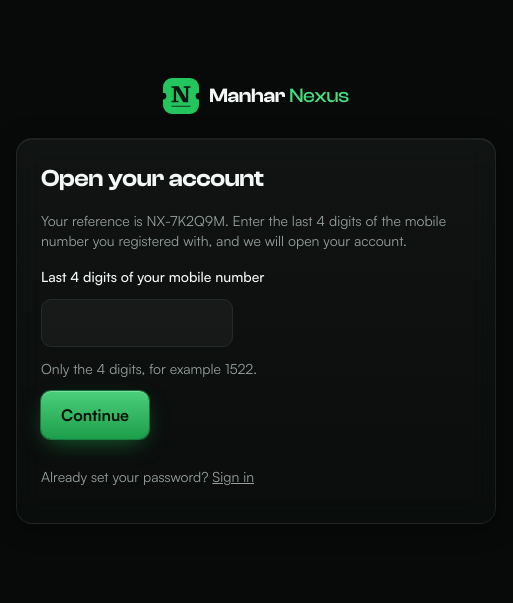
Test: /pay/return › "manual" says a person is finishing it and offers WhatsApp
This screenshot has width=513, height=603.
Step 1. Type "1522" into the field labelled "Last 4 digits of your mobile number" → x=137, y=323, box x1=41 y1=299 x2=233 y2=347
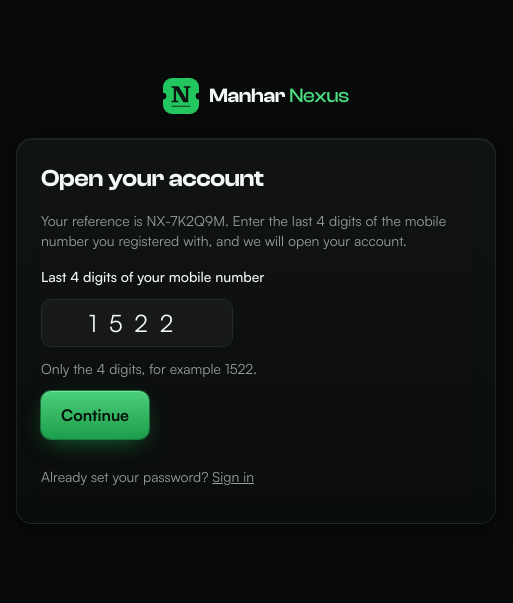
Step 2. Click the button "Continue" → x=95, y=415, box x1=41 y1=391 x2=149 y2=439
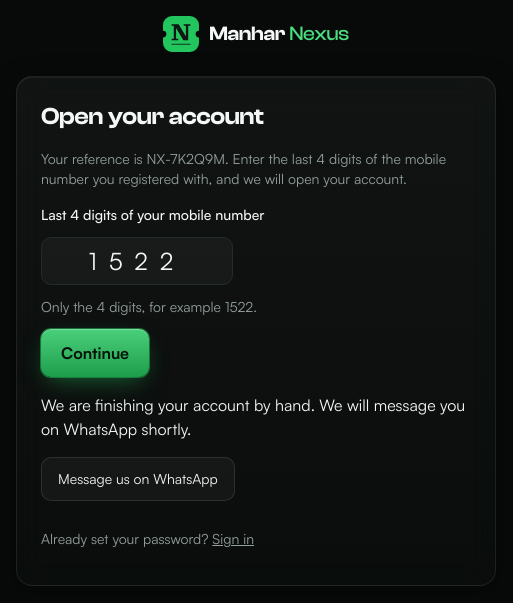
expect the text "finishing your account by hand" is shown: met, box x1=41 y1=395 x2=465 y2=439
expect the link "Message us on WhatsApp" is shown: met, box x1=41 y1=457 x2=235 y2=501
